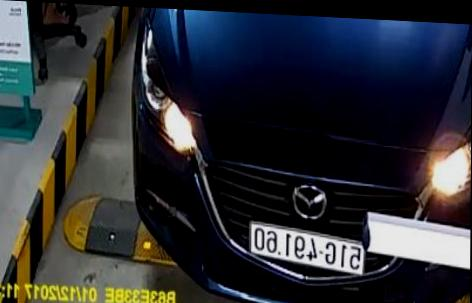License_Plate: (245, 222, 369, 274)
